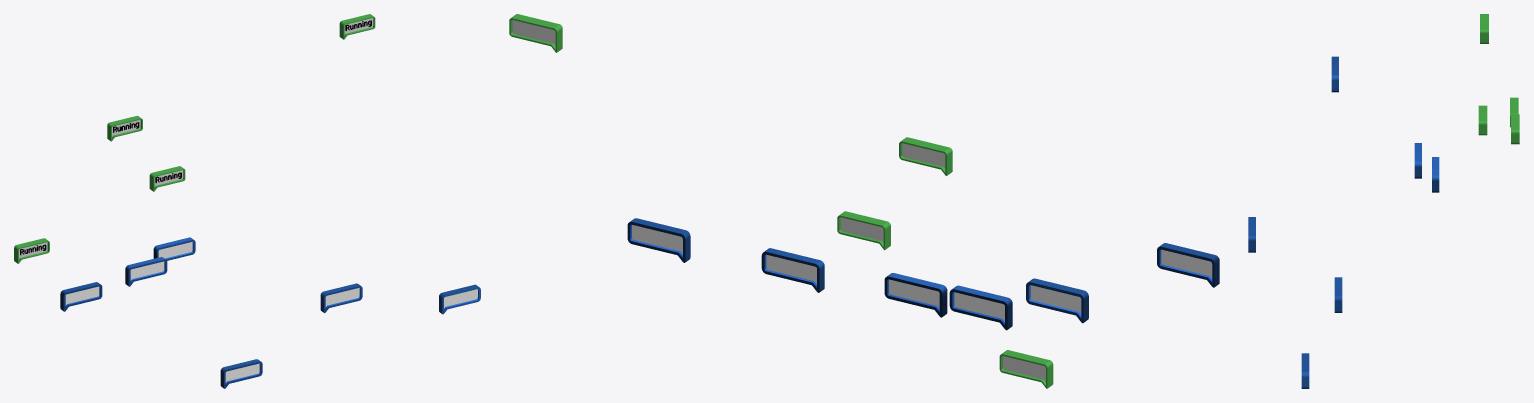
The model's file is pop_up_stereoscopy.glb.
3 views of the same model, side by side, from view 1: azimuth 30°, elevation 25°; view 2: azimuth 150°, elevation 25°; view 3: azimuth 270°, elevation 25° (orthographic). The views are drawn at different scales.
Visible parts, largest first — view 1: pop_up_running, pop_up_games, pop_up_share_knowledge, pop_up_contact_me, pop_up_photography_left, pop_up_stereoscopy, pop_up_running.004, pop_up_running.009, pop_up_running.003, pop_up_running.005; view 2: pop_up_stereoscopy, pop_up_photography_left, pop_up_share_knowledge, pop_up_contact_me, pop_up_running, pop_up_games, pop_up_running.003, pop_up_running.004, pop_up_running.005, pop_up_running.009; view 3: pop_up_share_knowledge, pop_up_photography_left, pop_up_running.004, pop_up_games, pop_up_running, pop_up_contact_me, pop_up_stereoscopy, pop_up_running.009, pop_up_running.005.
Boxes of the visible parts, bbox=[...] form: pop_up_running: bbox=[220, 359, 262, 388]; pop_up_games: bbox=[60, 282, 102, 311]; pop_up_share_knowledge: bbox=[320, 283, 362, 313]; pop_up_contact_me: bbox=[125, 257, 167, 286]; pop_up_photography_left: bbox=[439, 284, 480, 314]; pop_up_stereoscopy: bbox=[153, 237, 195, 260]; pop_up_running.004: bbox=[149, 166, 185, 191]; pop_up_running.009: bbox=[339, 14, 375, 39]; pop_up_running.003: bbox=[14, 238, 49, 263]; pop_up_running.005: bbox=[107, 115, 142, 141]; pop_up_stereoscopy: bbox=[884, 273, 947, 317]; pop_up_photography_left: bbox=[627, 218, 690, 262]; pop_up_share_knowledge: bbox=[761, 248, 824, 292]; pop_up_contact_me: bbox=[949, 285, 1012, 330]; pop_up_running: bbox=[1026, 278, 1088, 323]; pop_up_games: bbox=[1157, 243, 1219, 287]; pop_up_running.003: bbox=[999, 350, 1053, 388]; pop_up_running.004: bbox=[837, 211, 890, 250]; pop_up_running.005: bbox=[899, 137, 952, 175]; pop_up_running.009: bbox=[509, 14, 562, 52]; pop_up_share_knowledge: bbox=[1334, 277, 1342, 312]; pop_up_photography_left: bbox=[1301, 353, 1309, 388]; pop_up_running.004: bbox=[1478, 105, 1487, 135]; pop_up_games: bbox=[1331, 56, 1338, 92]; pop_up_running: bbox=[1248, 217, 1255, 252]; pop_up_contact_me: bbox=[1414, 143, 1421, 178]; pop_up_stereoscopy: bbox=[1432, 157, 1439, 192]; pop_up_running.009: bbox=[1511, 114, 1519, 144]; pop_up_running.005: bbox=[1480, 14, 1488, 43].
Bounding box in the file's own units: 33.82 × 18.01 × 17.28.
9 materials, 6 textured.
